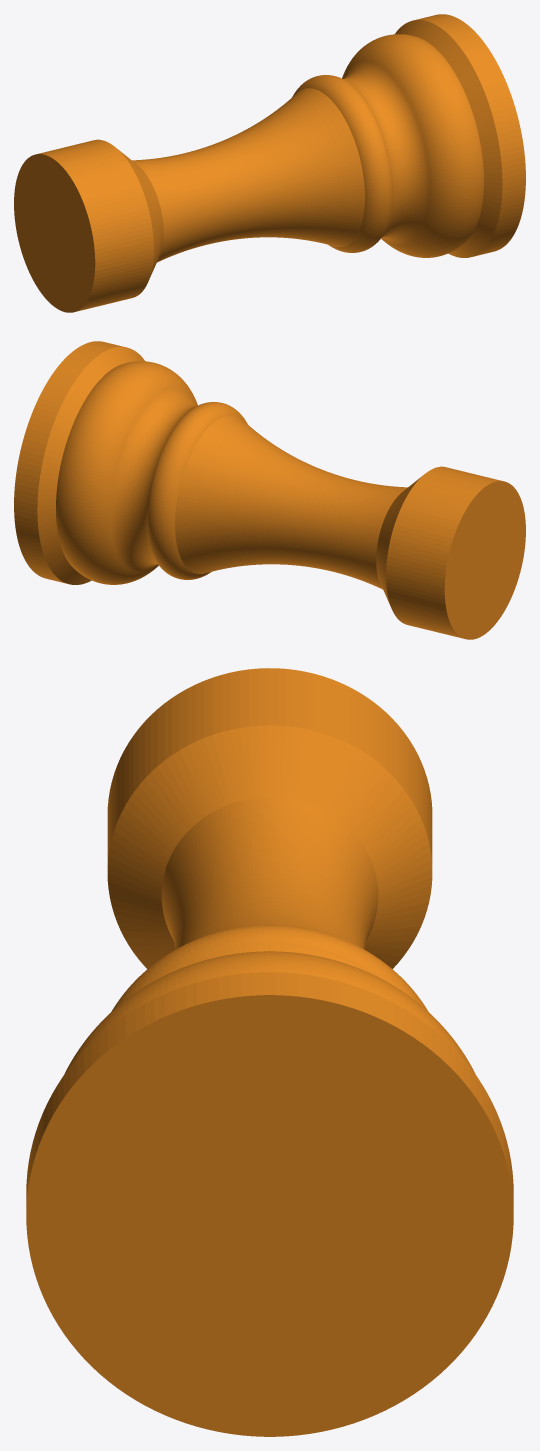
3 views of the same model, one above another, from view 1: azimuth 30°, elevation 25°; view 2: azimuth 150°, elevation 25°; view 3: azimuth 270°, elevation 25° (orthographic). The views are drawn at different scales.
Parts seen in each view (by area): view 1: S1_ROOK.stl; view 2: S1_ROOK.stl; view 3: S1_ROOK.stl.
Boxes of the visible parts, box(x1,y1,x2,y2) form: S1_ROOK.stl: box(14, 14, 525, 312); S1_ROOK.stl: box(14, 341, 525, 639); S1_ROOK.stl: box(26, 668, 513, 1436).
Size of the model in its own units: 70 by 35.99 by 36.
